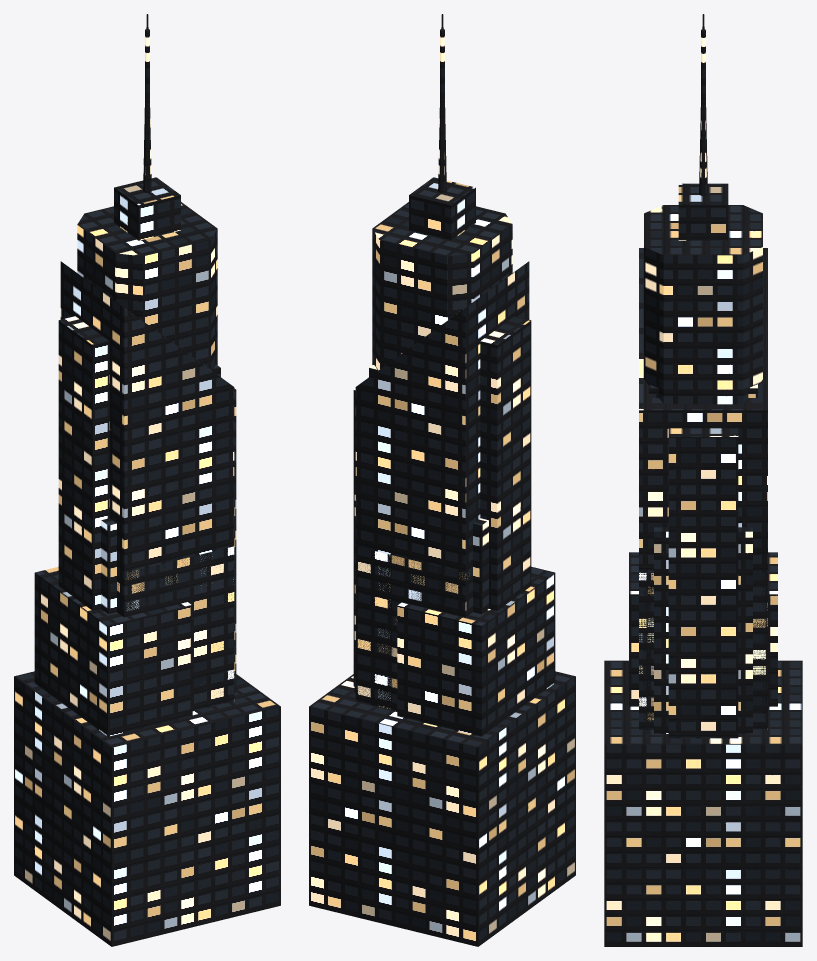
The model's file is skyline.glb.
3 views of the same model, side by side, from view 1: azimuth 30°, elevation 25°; view 2: azimuth 150°, elevation 25°; view 3: azimuth 270°, elevation 25° (orthographic).
Parts seen in each view (by area): view 1: Skyline; view 2: Skyline; view 3: Skyline.
Part boxes in pixels (box(x1,y1,x2,y2)): Skyline: box(14, 14, 280, 946); Skyline: box(309, 14, 575, 946); Skyline: box(604, 14, 802, 946).
Size of the model in its own units: 40 by 198 by 40.
Materials: 1 (1 with a texture image).
